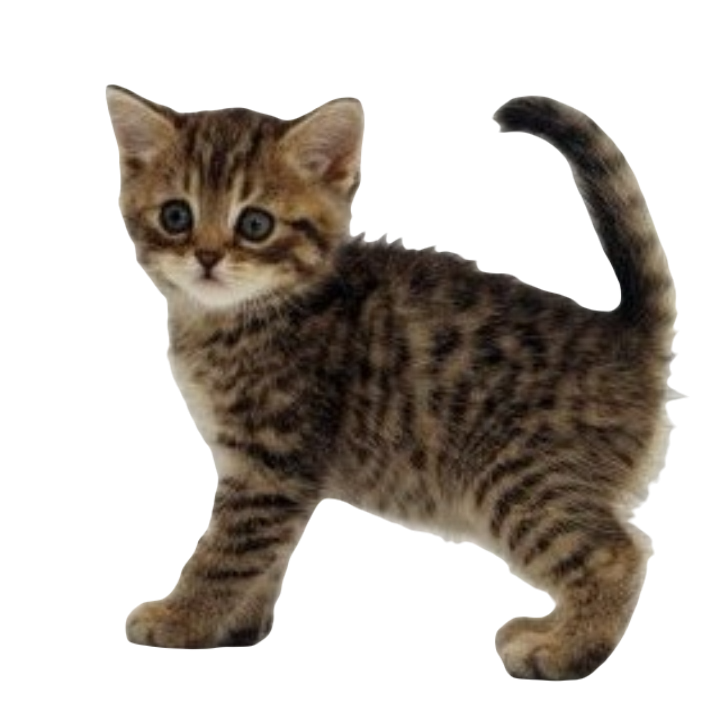Cat: (97, 74, 682, 681)
